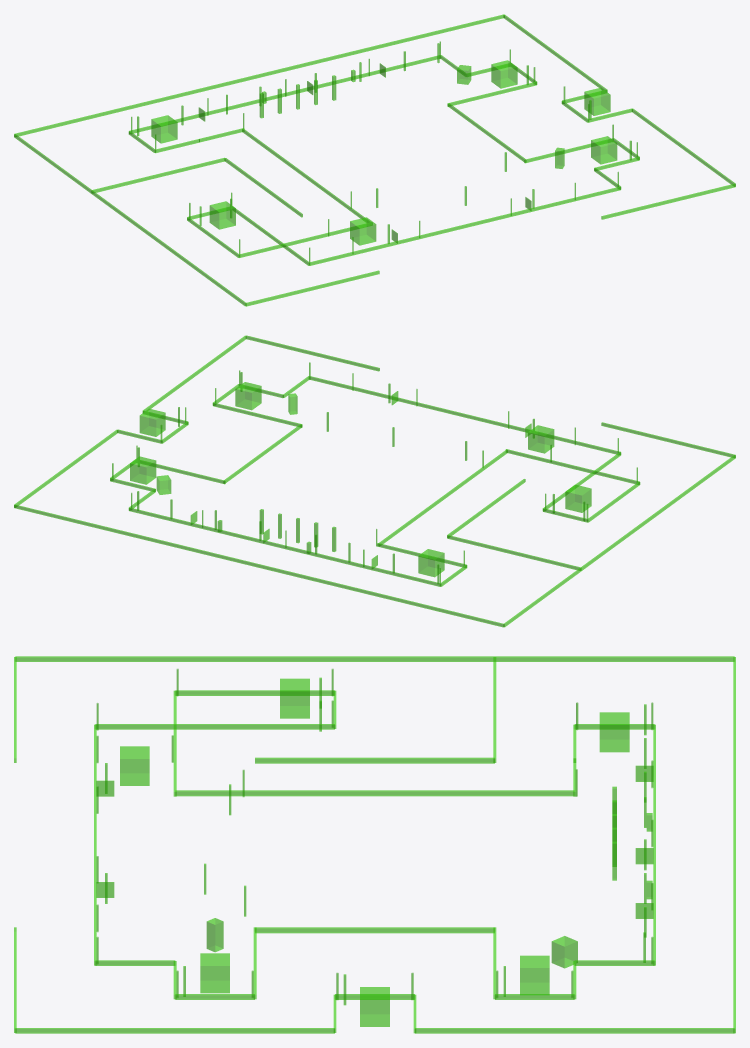
File: track_04_collider.glb
3 views of the same model, one above another, from view 1: azimuth 30°, elevation 25°; view 2: azimuth 150°, elevation 25°; view 3: azimuth 270°, elevation 25° (orthographic). The views are drawn at different scales.
Parts seen in each view (by area): view 1: Box_collider.014_collider, Box_collider.011_collider, Box_collider.013_collider, Box_collider.036_collider, light3_collider, Box_collider.004_collider, Box_collider.008_collider, Box_collider.005_collider, Box_collider.002_collider, Box_collider.006_collider, Box_collider.003_collider, Box_collider.023_collider (+5 smaller); view 2: Box_collider.014_collider, Box_collider.013_collider, Box_collider.011_collider, Box_collider.036_collider, light3_collider, Box_collider.023_collider, Box_collider.006_collider, Box_collider.008_collider, Box_collider.004_collider, Box_collider.003_collider, Box_collider.005_collider, Box_collider.002_collider (+5 smaller); view 3: Box_collider.036_collider, Box_collider.023_collider, Box_collider.037_collider, Box_collider.033_collider, light3_collider, Box_collider.017_collider, Box_collider.024_collider, Box_collider.004_collider, Box_collider.003_collider, Box_collider.006_collider, Box_collider.008_collider, Box_collider.002_collider (+7 smaller).
Part boxes in pixels (box(x1,y1,x2,y2)): Box_collider.014_collider: box(14, 14, 504, 136); Box_collider.011_collider: box(309, 186, 620, 265); Box_collider.013_collider: box(129, 55, 439, 133); Box_collider.036_collider: box(14, 134, 246, 306); light3_collider: box(131, 41, 637, 262); Box_collider.004_collider: box(151, 115, 177, 143); Box_collider.008_collider: box(584, 87, 610, 115); Box_collider.005_collider: box(491, 60, 517, 88); Box_collider.002_collider: box(350, 217, 376, 245); Box_collider.006_collider: box(591, 136, 617, 164); Box_collider.003_collider: box(209, 201, 235, 229); Box_collider.023_collider: box(242, 128, 369, 222); Box_collider.014_collider: box(14, 505, 504, 627); Box_collider.013_collider: box(129, 507, 440, 586); Box_collider.011_collider: box(310, 376, 620, 454); Box_collider.036_collider: box(503, 455, 735, 627); light3_collider: box(112, 362, 637, 583); Box_collider.023_collider: box(378, 449, 507, 546); Box_collider.006_collider: box(235, 382, 261, 410); Box_collider.008_collider: box(139, 408, 165, 436); Box_collider.004_collider: box(418, 549, 444, 577); Box_collider.003_collider: box(565, 484, 591, 512); Box_collider.005_collider: box(130, 456, 156, 484); Box_collider.002_collider: box(528, 425, 554, 453); Box_collider.036_collider: box(15, 656, 734, 661); Box_collider.023_collider: box(175, 790, 574, 796); Box_collider.037_collider: box(15, 1028, 334, 1033); Box_collider.033_collider: box(415, 1028, 734, 1033); light3_collider: box(96, 669, 653, 999); Box_collider.017_collider: box(255, 757, 494, 763); Box_collider.024_collider: box(255, 927, 494, 933); Box_collider.004_collider: box(599, 712, 629, 752); Box_collider.003_collider: box(280, 678, 309, 718); Box_collider.006_collider: box(200, 953, 229, 993); Box_collider.008_collider: box(360, 987, 389, 1026); Box_collider.002_collider: box(120, 746, 149, 785).
Size of the model in its own units: 177 by 11.41 by 145.
